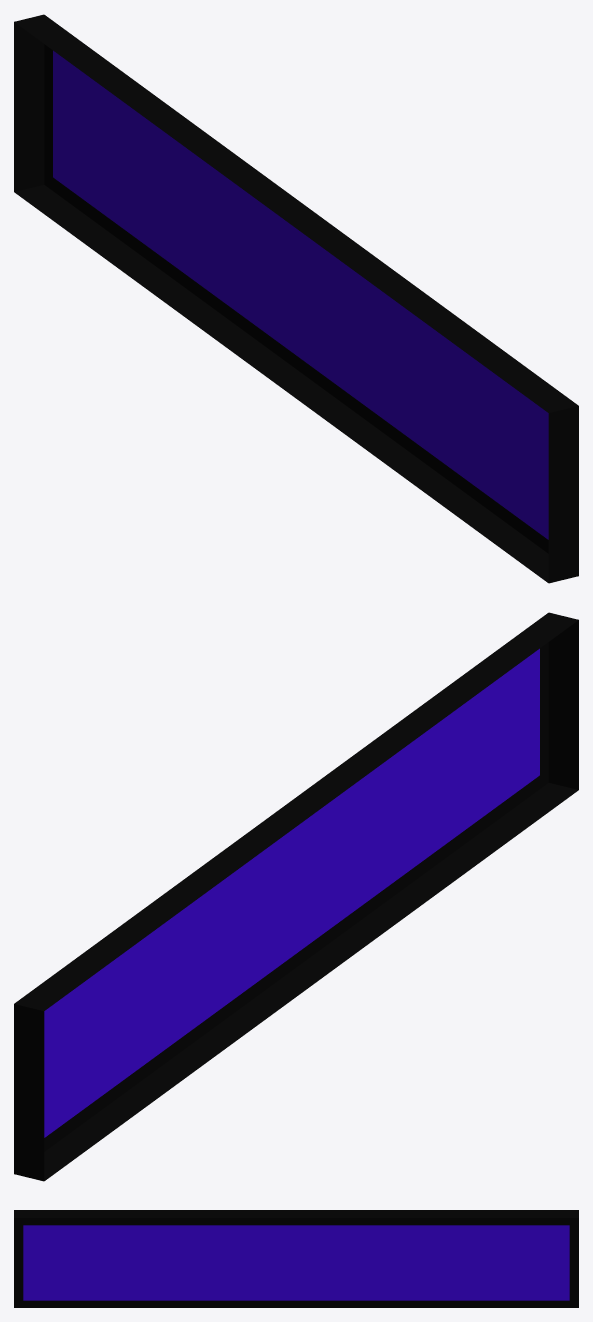
Rendered from Sign_policePost.fbx.
3 views of the same model, one above another, from view 1: azimuth 30°, elevation 25°; view 2: azimuth 150°, elevation 25°; view 3: azimuth 270°, elevation 25° (orthographic). The views are drawn at different scales.
Visible parts, largest first — view 1: sign; view 2: sign; view 3: sign.
Boxes of the visible parts, <box> form: sign: <box>14,14,578,583</box>; sign: <box>14,612,578,1181</box>; sign: <box>14,1210,578,1307</box>.
Bounding box in the file's own units: 16.21 × 87.11 × 496.
